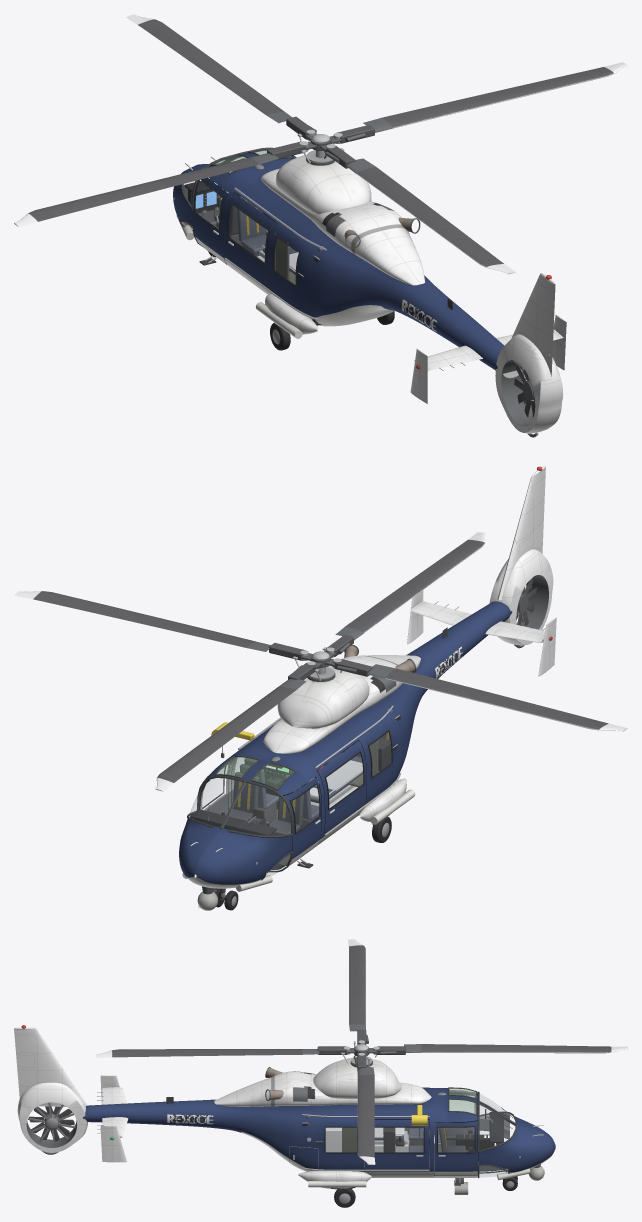
The model's file is peregrine_p3.gltf.
The picture shows the model from 3 angles, top to bottom: view 1: azimuth 30°, elevation 25°; view 2: azimuth 150°, elevation 25°; view 3: azimuth 270°, elevation 25°; orthographic projection. The views are drawn at different scales.
Visible parts, largest first — view 1: body skin (game), Fuselage skin (game), blades skin (game), Door skin.003 (game), Door skin.002 (game), eq_floats skin (game); view 2: Fuselage skin (game), body skin (game), blades skin (game), Door skin.003 (game), Door skin.002 (game), Glareshield (game), eq_floats skin (game), Seat back.002 (game), Sheet (game); view 3: Fuselage skin (game), body skin (game), blades skin (game), Door skin.001 (game), Door skin (game), tail_rotor skin (game), eq_floats skin (game), Cabin lining (game), Pedestal (game), Equipment cabinet (game), Glareshield (game).
Boxes of the visible parts, left/top/right/bottom form: body skin (game): left=179, top=147, right=566, bottom=437; Fuselage skin (game): left=173, top=149, right=504, bottom=370; blades skin (game): left=14, top=14, right=627, bottom=274; Door skin.003 (game): left=226, top=192, right=276, bottom=288; Door skin.002 (game): left=193, top=177, right=227, bottom=263; eq_floats skin (game): left=176, top=215, right=302, bottom=338; Fuselage skin (game): left=179, top=601, right=512, bottom=888; body skin (game): left=187, top=466, right=556, bottom=891; blades skin (game): left=14, top=532, right=627, bottom=791; Door skin.003 (game): left=317, top=741, right=366, bottom=832; Door skin.002 (game): left=283, top=777, right=321, bottom=864; Glareshield (game): left=190, top=809, right=276, bottom=835; eq_floats skin (game): left=182, top=789, right=415, bottom=891; Seat back.002 (game): left=233, top=772, right=259, bottom=813; Sheet (game): left=315, top=760, right=362, bottom=790; Fuselage skin (game): left=76, top=1088, right=555, bottom=1177; body skin (game): left=14, top=1027, right=517, bottom=1189; blades skin (game): left=95, top=939, right=627, bottom=1164; Door skin.001 (game): left=365, top=1119, right=428, bottom=1168; Door skin (game): left=434, top=1121, right=477, bottom=1175; tail_rotor skin (game): left=29, top=1106, right=74, bottom=1141; eq_floats skin (game): left=308, top=1168, right=530, bottom=1187; Cabin lining (game): left=408, top=1090, right=509, bottom=1171; Pedestal (game): left=456, top=1134, right=494, bottom=1161; Equipment cabinet (game): left=325, top=1127, right=341, bottom=1152; Glareshield (game): left=489, top=1112, right=503, bottom=1142.
Size of the model in its own units: 11.94 by 4.03 by 13.77.
Materials: 73 (15 with a texture image).
